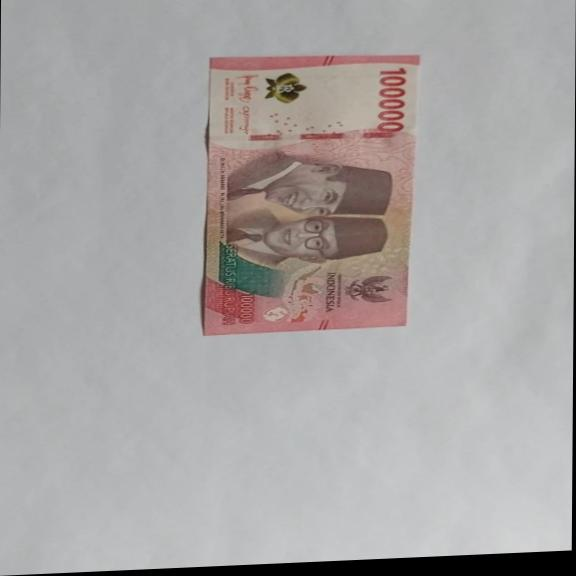Kertas: (201, 48, 421, 337), (375, 66, 409, 134)
